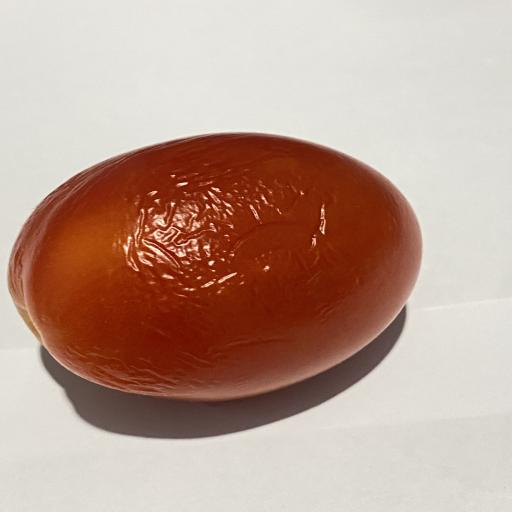spoiled: (9, 133, 421, 401)
